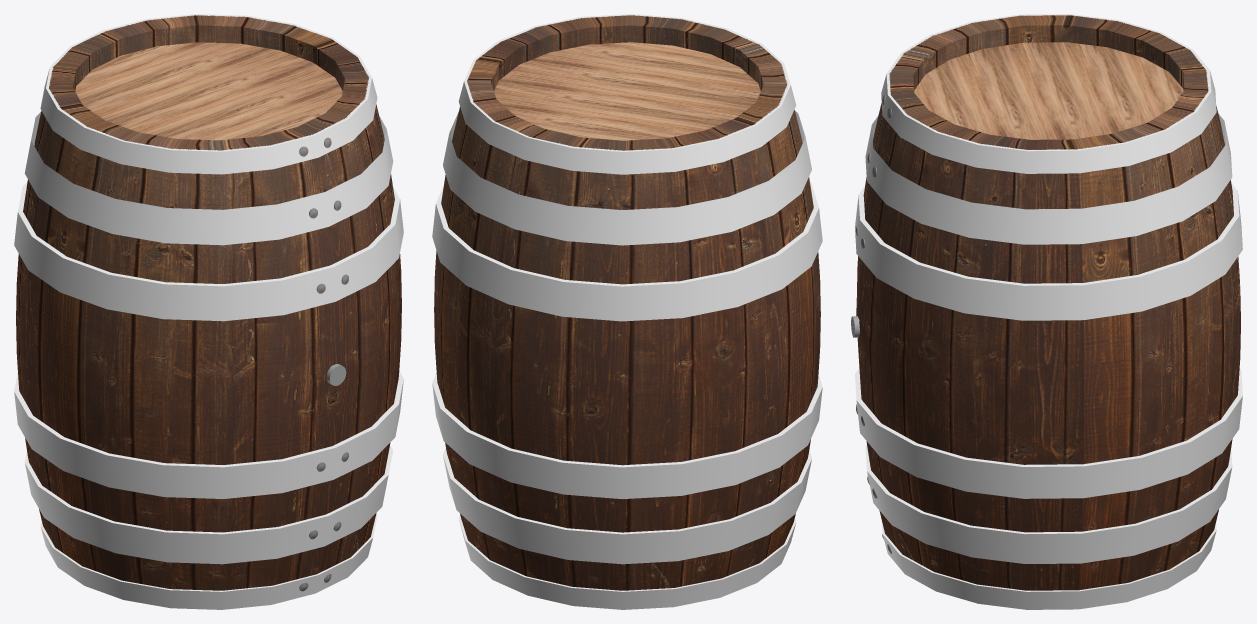
The picture shows the model from 3 angles, left to right: view 1: azimuth 30°, elevation 25°; view 2: azimuth 150°, elevation 25°; view 3: azimuth 270°, elevation 25°; orthographic projection.
Parts seen in each view (by area): view 1: polySurface31, polySurface47, polySurface46, polySurface48, polySurface49, polySurface45, polySurface50; view 2: polySurface31, polySurface47, polySurface46, polySurface48, polySurface49, polySurface45, polySurface50; view 3: polySurface31, polySurface47, polySurface46, polySurface48, polySurface49, polySurface45, polySurface50.
Boxes of the visible parts, bbox=[...] form: polySurface31: bbox=[16, 15, 401, 590]; polySurface47: bbox=[14, 182, 403, 321]; polySurface46: bbox=[24, 111, 393, 245]; polySurface48: bbox=[14, 371, 403, 498]; polySurface49: bbox=[24, 445, 393, 564]; polySurface45: bbox=[40, 14, 377, 174]; polySurface50: bbox=[40, 513, 377, 609]; polySurface31: bbox=[434, 15, 820, 590]; polySurface47: bbox=[432, 182, 822, 321]; polySurface46: bbox=[443, 111, 811, 245]; polySurface48: bbox=[432, 373, 822, 499]; polySurface49: bbox=[443, 447, 811, 564]; polySurface45: bbox=[458, 14, 796, 174]; polySurface50: bbox=[458, 515, 796, 609]; polySurface31: bbox=[856, 15, 1240, 590]; polySurface47: bbox=[855, 183, 1242, 320]; polySurface46: bbox=[865, 114, 1232, 244]; polySurface48: bbox=[855, 368, 1242, 498]; polySurface49: bbox=[865, 444, 1232, 563]; polySurface45: bbox=[881, 14, 1216, 173]; polySurface50: bbox=[881, 520, 1216, 609].
Bounding box in the file's own units: 6.85 × 8.95 × 6.92.
Materials: 4 (1 with a texture image).
